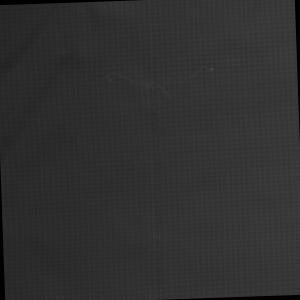Wrinkle: (1, 1, 139, 176), (3, 223, 112, 300)
